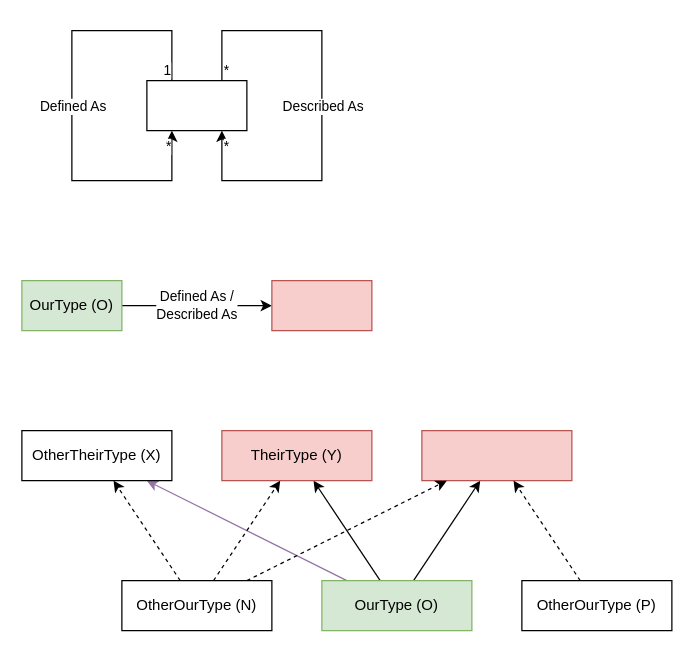
Image size: 694x653. Some labels were removed from this diagram. The centre of each missing label's shape, as x and y in pixels:
"TheirType (T)" belongs at point (321, 305).
"TheirType (Z)" belongs at point (496, 455).
"Type" belongs at point (196, 105).
